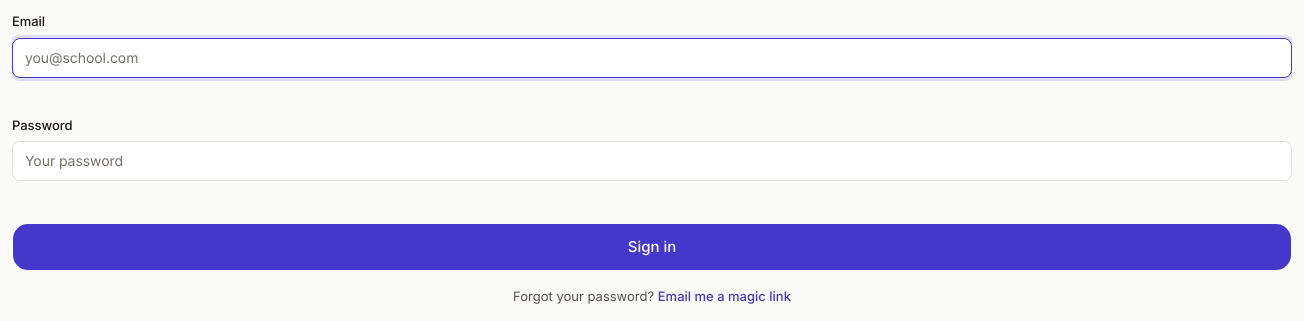
Scenario: what leaving the email field says about it › does report an email that was typed wrongly
Type "sara@" into the field labelled "Email" at (652, 58), box [25,48,1279,68]
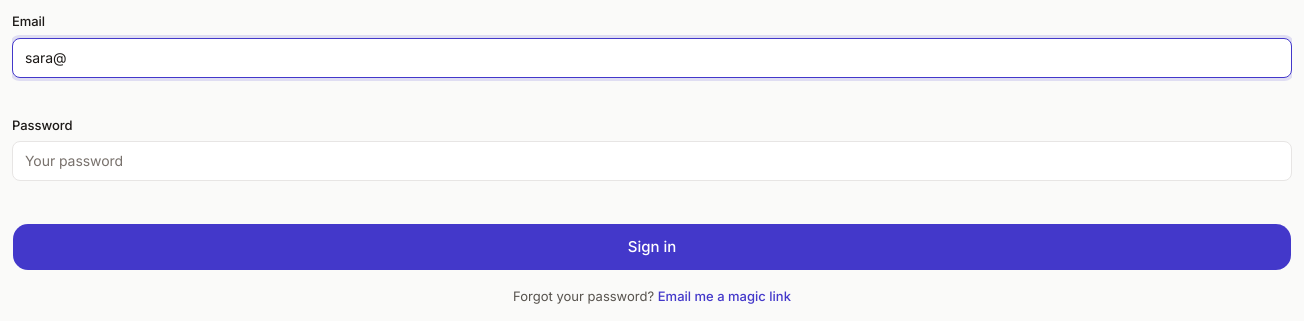
Click the password field labelled "Password" at (652, 161), box [25,151,1279,171]
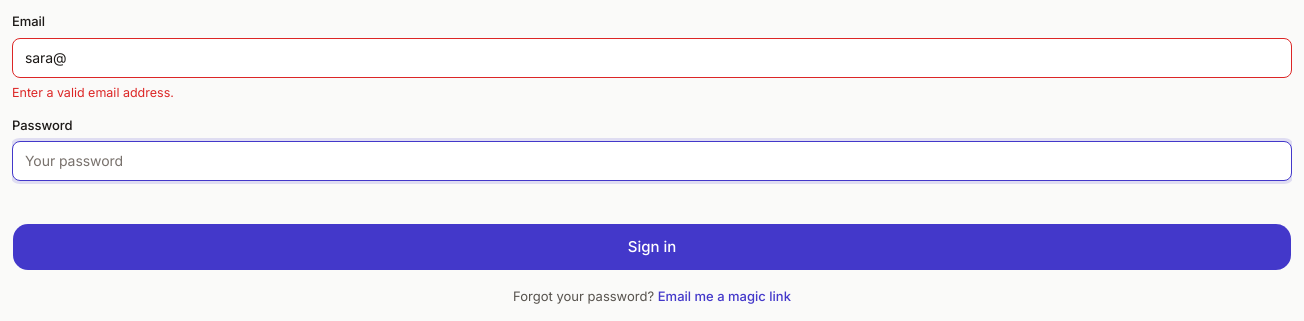
Check: the text "Enter a valid email address." is shown, box [12,84,174,100]
